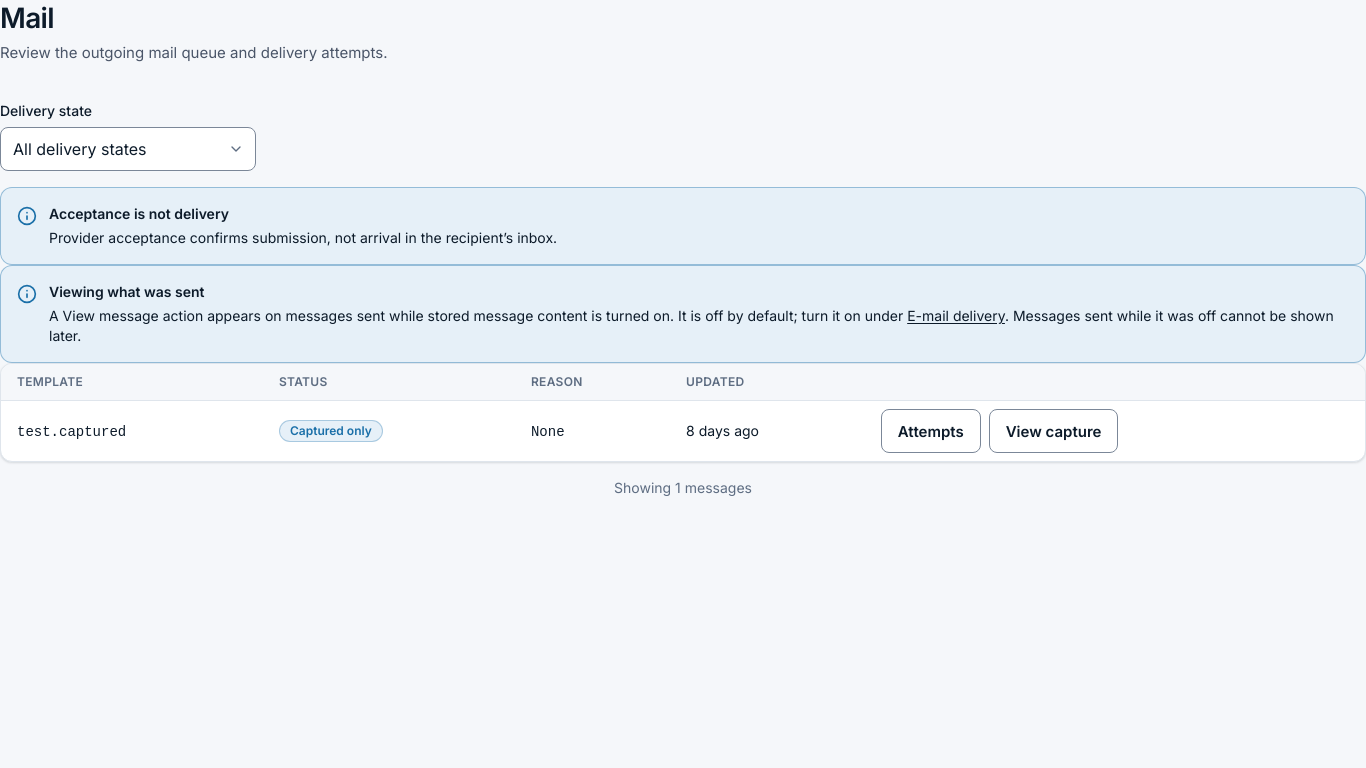
Test: Jobs administration pages › reveals captured mail only on request and keeps it out of the mutation cache
Click the button "View capture" at x=1054, y=431, box [989, 409, 1118, 453]
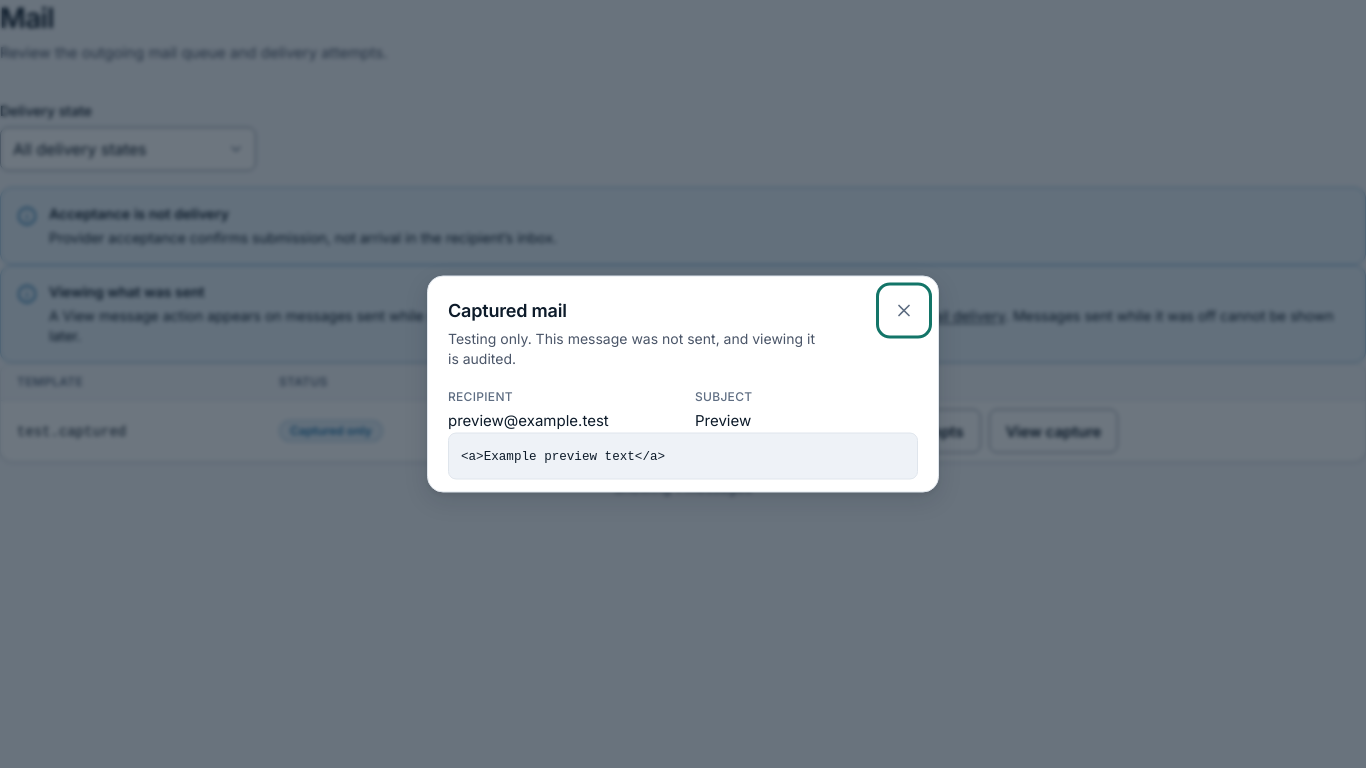
Expected: the text "<a>Example preview text</a>" is shown, [461, 450, 665, 464]
Click the button named "Close dialog" at x=904, y=310, box [882, 288, 926, 332]
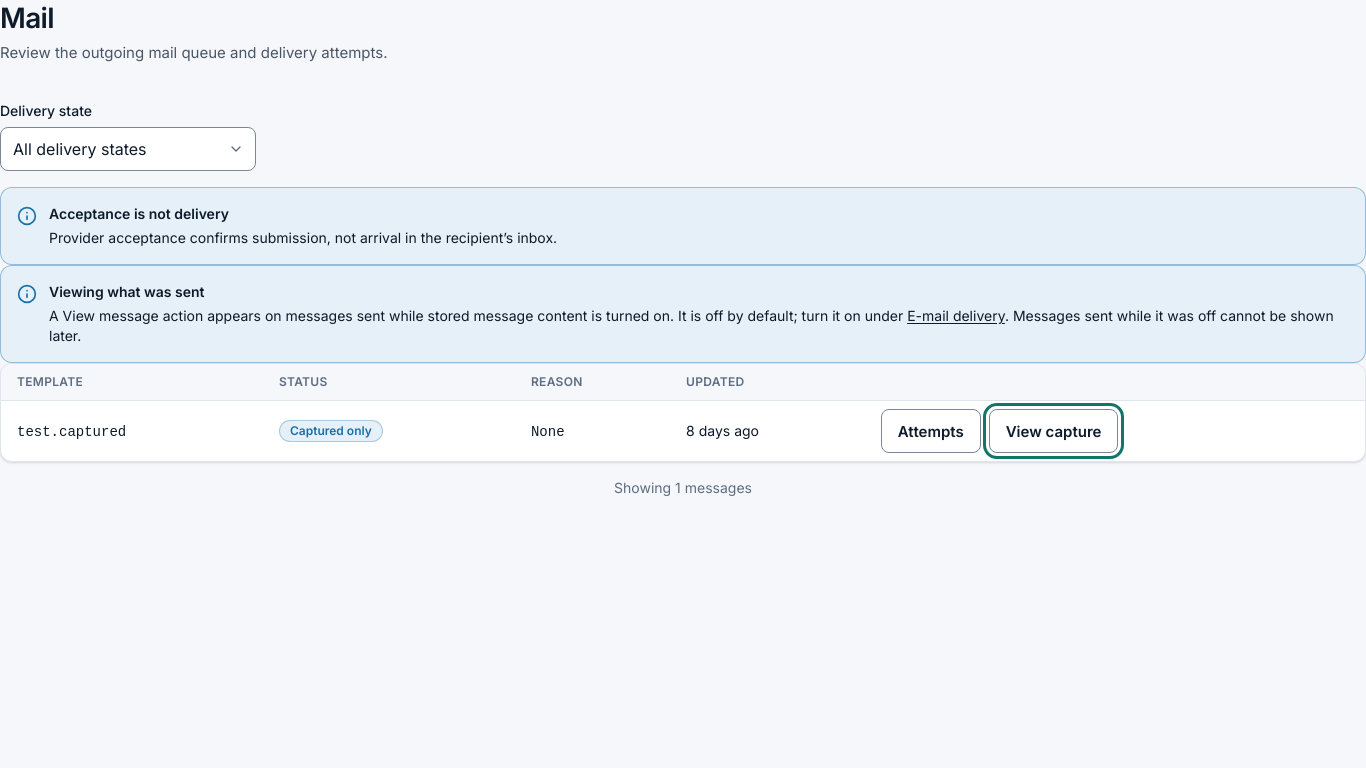
Expected: the text "<a>Example preview text</a>" is gone
